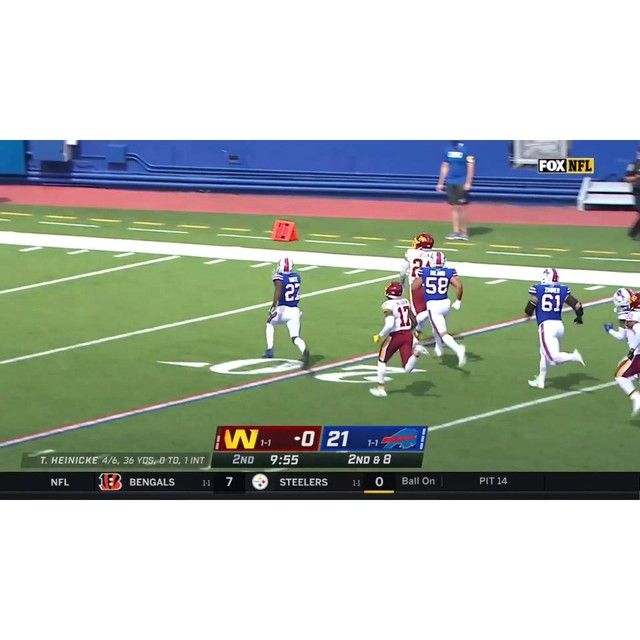american-football-player: (524, 270, 588, 386), (368, 281, 425, 397), (418, 252, 466, 368), (599, 288, 639, 421), (262, 258, 309, 366), (399, 234, 441, 351)
